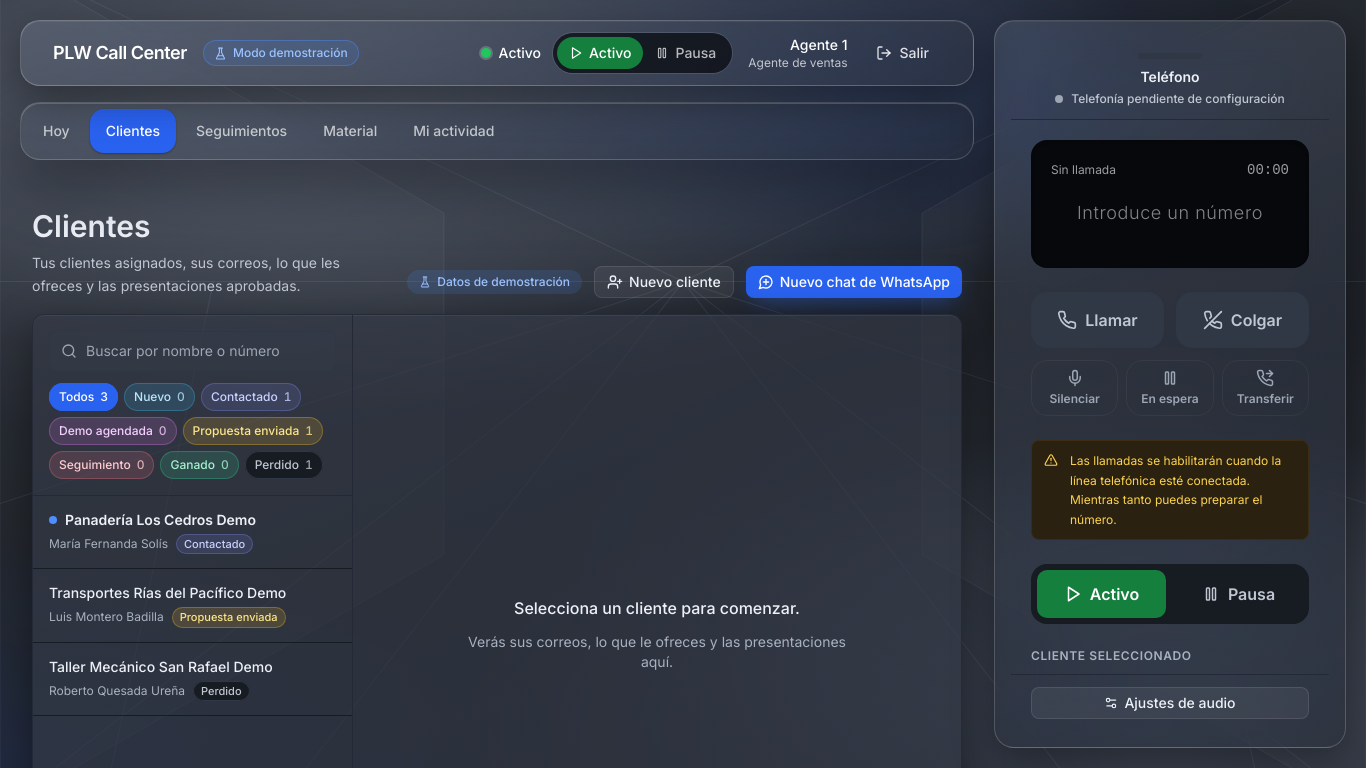
Test: the next agent on the same computer starts with a clean workspace
Earlier steps of the test are not shown.
Click the button "Salir" at (902, 53), box [864,35,941,71]
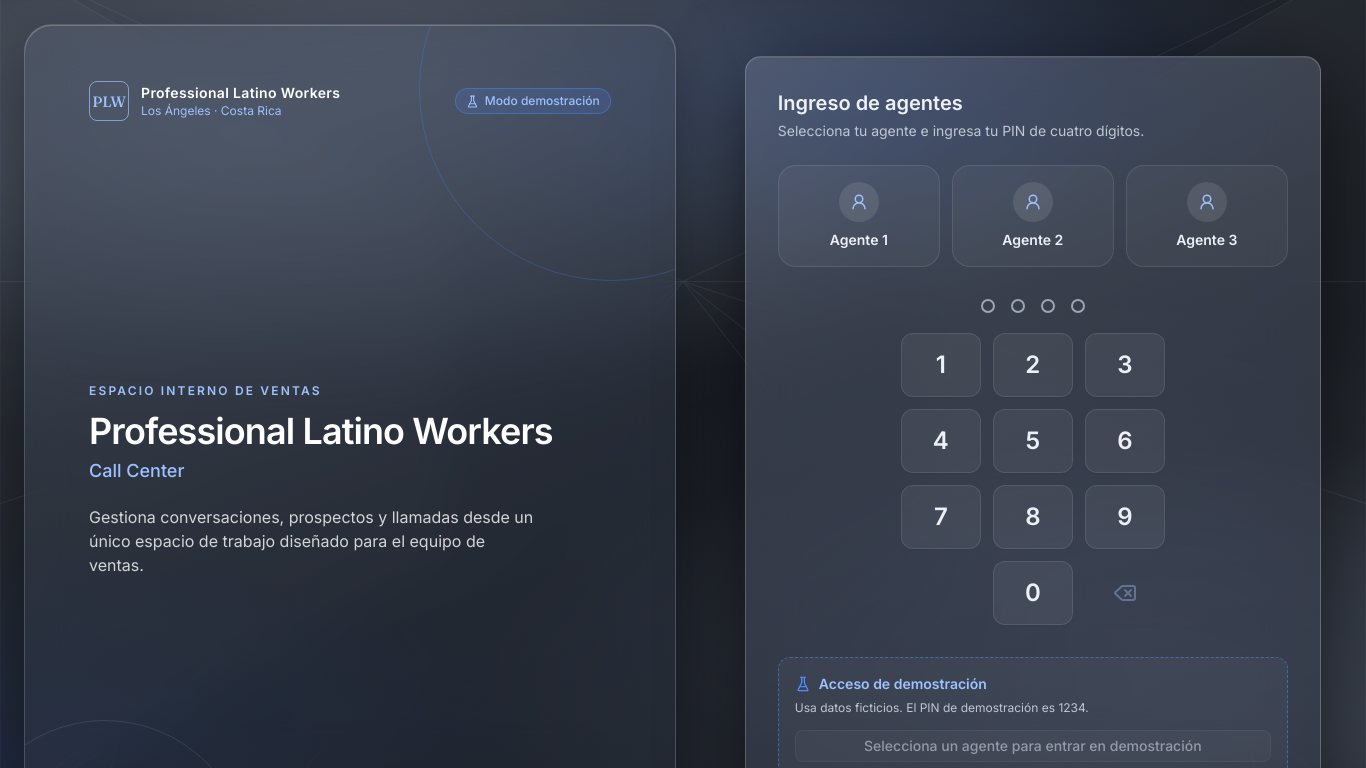
Click the radio button labelled "Agente 2" at (1033, 216), box [952,165,1114,267]
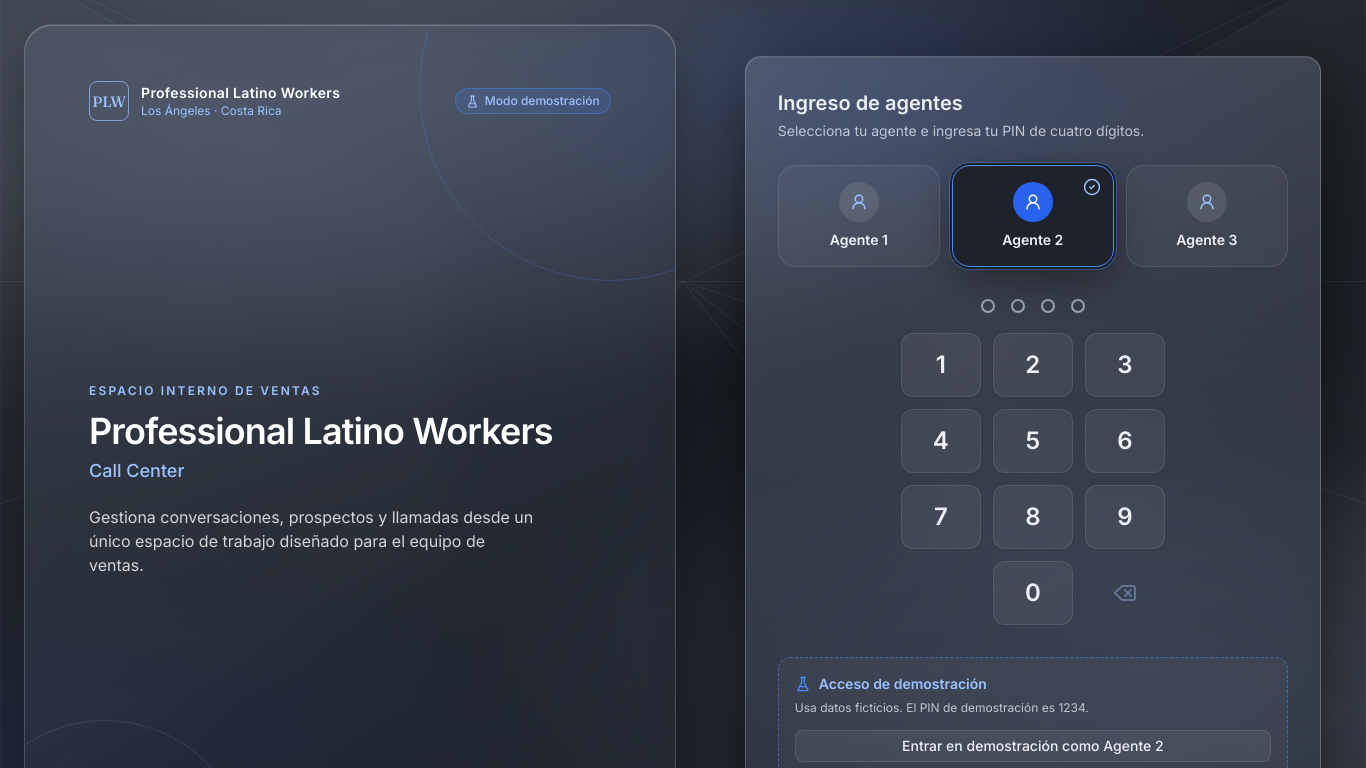
Type keys "1234"
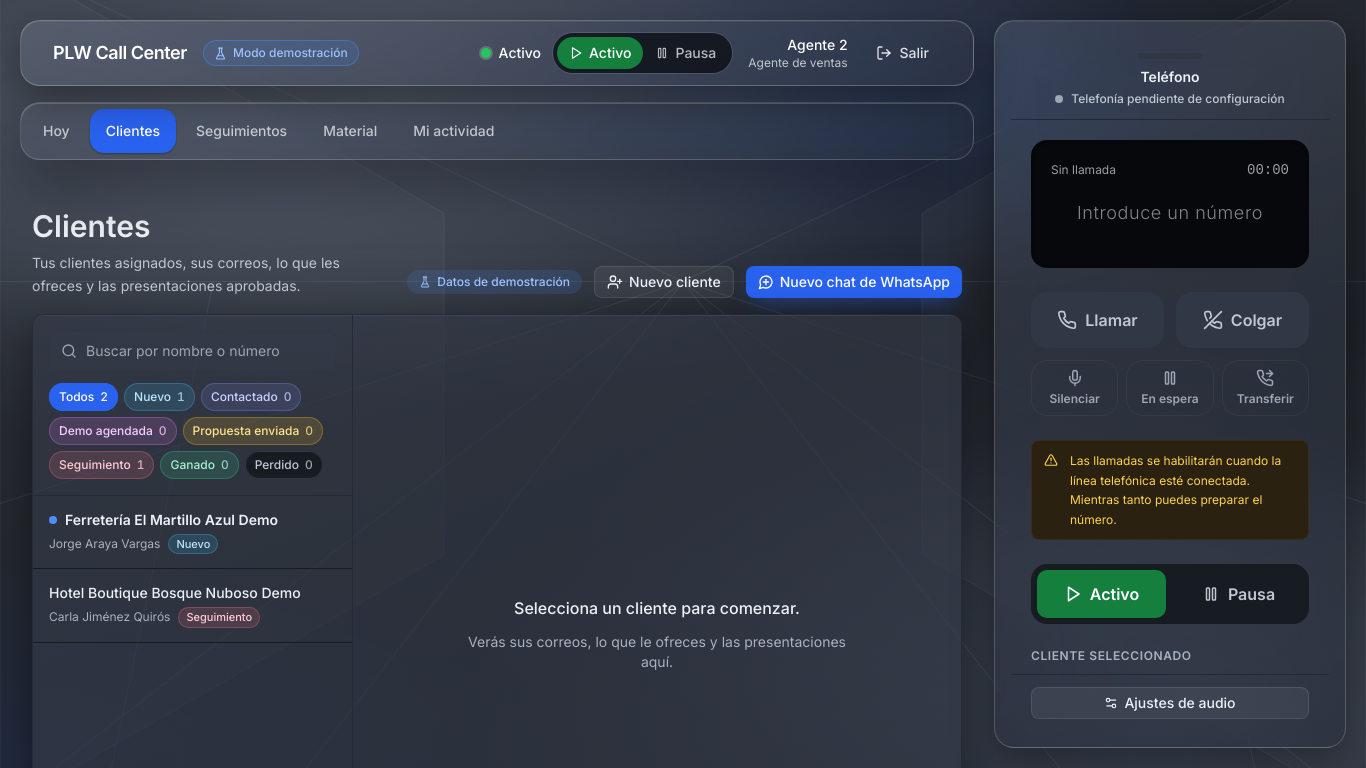
Expected: the button "Panadería Los Cedros Demo" is not shown
Expected: the text "Ferretería El Martillo Azul Demo" is shown, [65,510,278,530]
Expected: the field named "Número marcado" is empty, [1051,192,1289,228]
